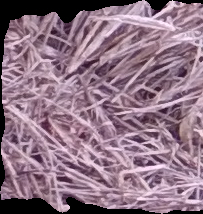soil: (1, 1, 203, 213)
